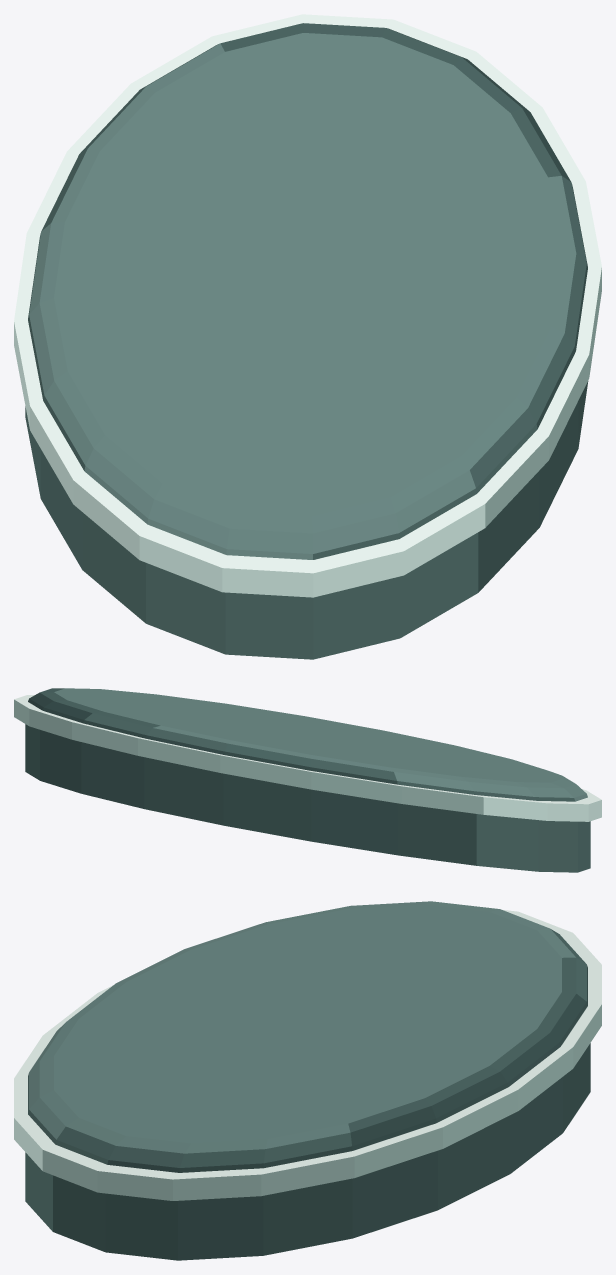
File: Plate_LatchBase.gltf
3 views of the same model, one above another, from view 1: azimuth 30°, elevation 25°; view 2: azimuth 150°, elevation 25°; view 3: azimuth 270°, elevation 25° (orthographic). The views are drawn at different scales.
Visible parts, largest first — view 1: Plate_LatchBase_baked; view 2: Plate_LatchBase_baked; view 3: Plate_LatchBase_baked.
Part boxes in pixels (x1=…): Plate_LatchBase_baked: x1=14, y1=14, x2=601, y2=659; Plate_LatchBase_baked: x1=14, y1=688, x2=601, y2=872; Plate_LatchBase_baked: x1=14, y1=901, x2=601, y2=1260.
Bounding box in the file's own units: 0.6693 × 0.347 × 0.6163.
